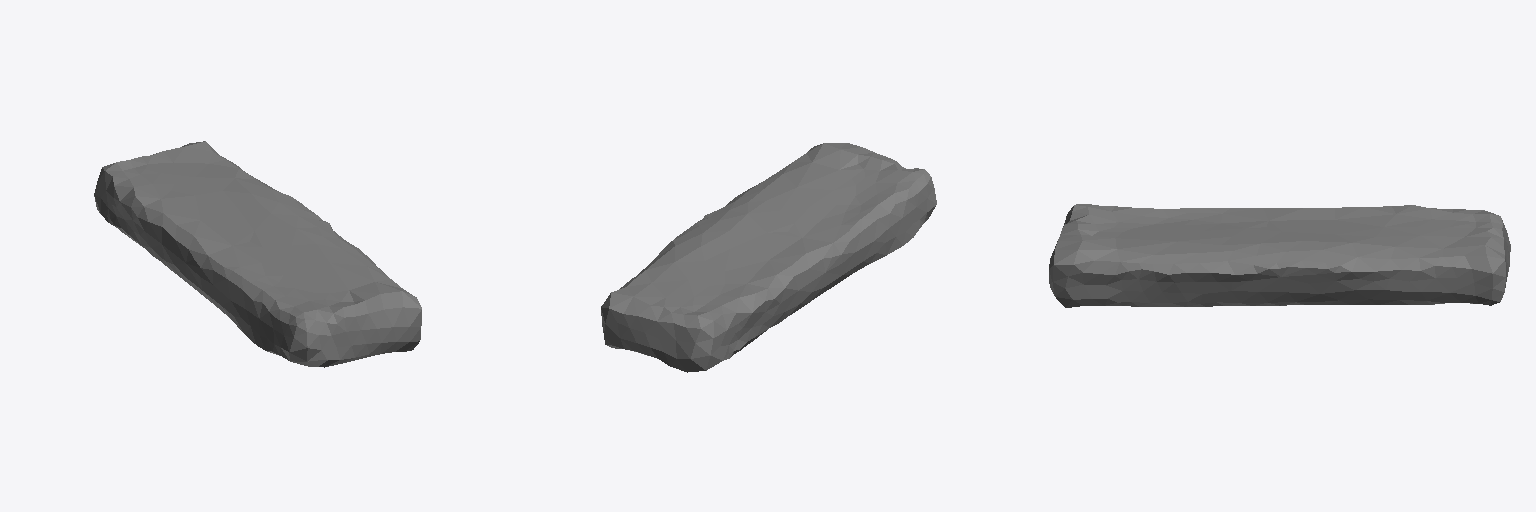
The model's file is StonePlatform_D.obj.
3 renders of one model, left to right at view 1: azimuth 30°, elevation 25°; view 2: azimuth 150°, elevation 25°; view 3: azimuth 270°, elevation 25°, orthographic.
Parts seen in each view (by area): view 1: Stone_D; view 2: Stone_D; view 3: Stone_D.
Boxes of the visible parts, <box> form: Stone_D: <box>94,141,421,367</box>; Stone_D: <box>601,143,936,372</box>; Stone_D: <box>1049,204,1510,307</box>.
Size of the model in its own units: 9.38 by 3.74 by 27.54.